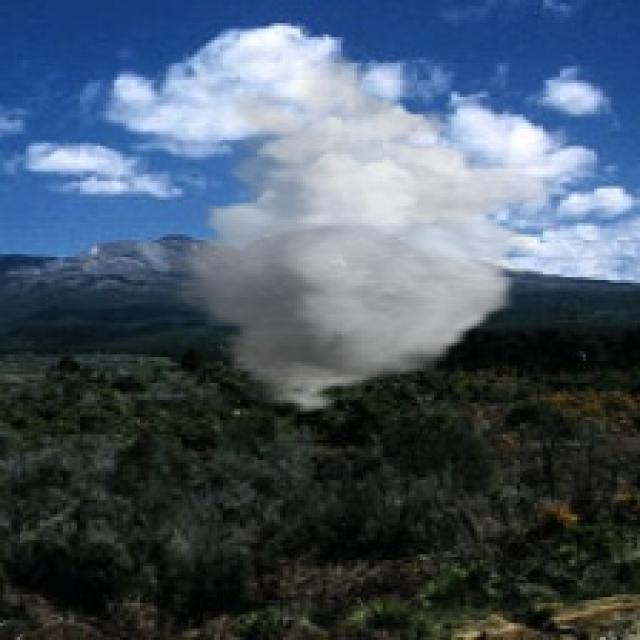Smoke: (157, 54, 557, 417)
